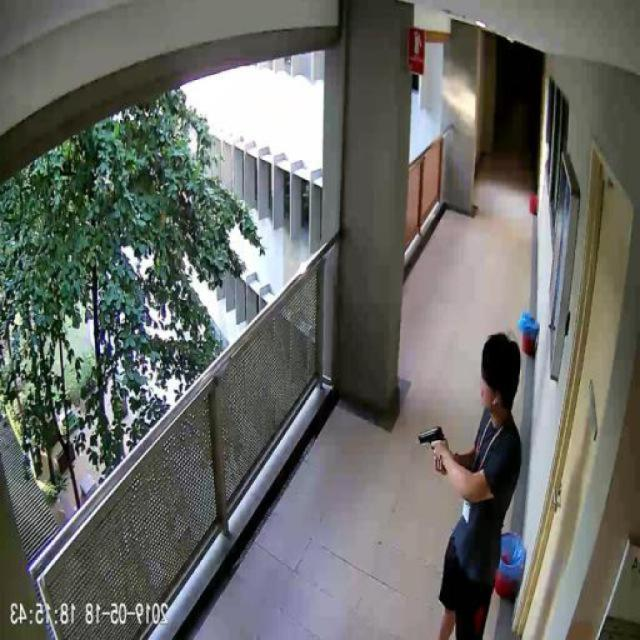pistol: (420, 421, 448, 470)
